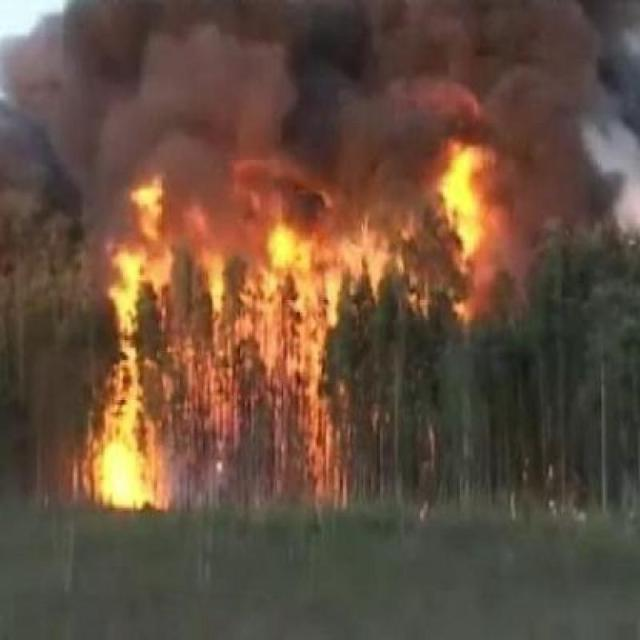Fire: (86, 175, 504, 522)
Smoke: (19, 0, 638, 223)
